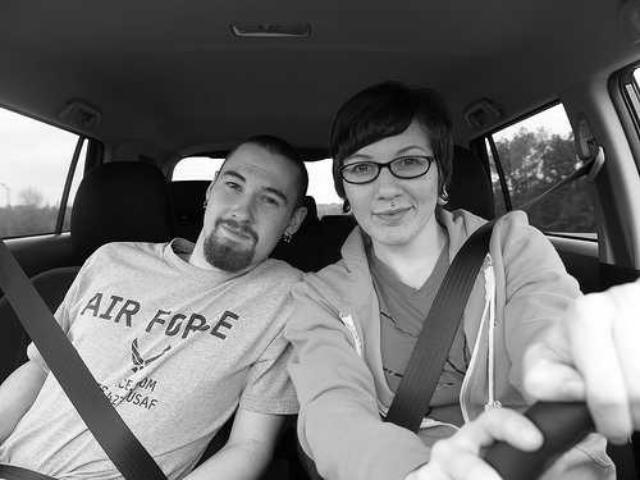SafeDriving: (218, 174, 248, 196), (254, 190, 286, 210), (392, 152, 424, 172), (347, 159, 378, 175)
Seatbelt: (382, 122, 606, 436), (0, 238, 172, 480)
